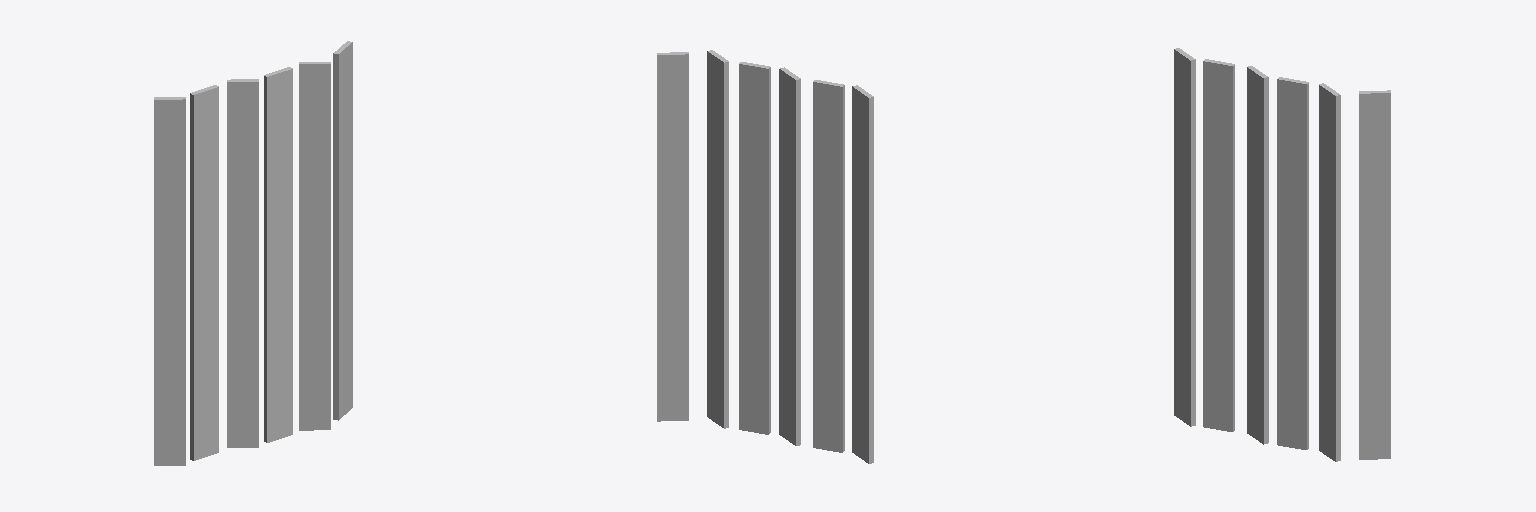
Rendered from curtain.obj.
The picture shows the model from 3 angles: view 1: azimuth 30°, elevation 25°; view 2: azimuth 150°, elevation 25°; view 3: azimuth 330°, elevation 25°; orthographic projection.
Parts seen in each view (by area): view 1: Cube; view 2: Cube; view 3: Cube.
Part boxes in pixels (x1,y1,x2,y2): Cube: (154, 41, 352, 465); Cube: (657, 50, 873, 463); Cube: (1174, 48, 1390, 461).
Bounding box in the file's own units: 9.04 × 15.2 × 1.48.